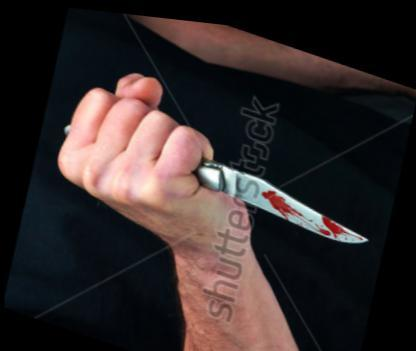knife: (87, 84, 384, 280)
